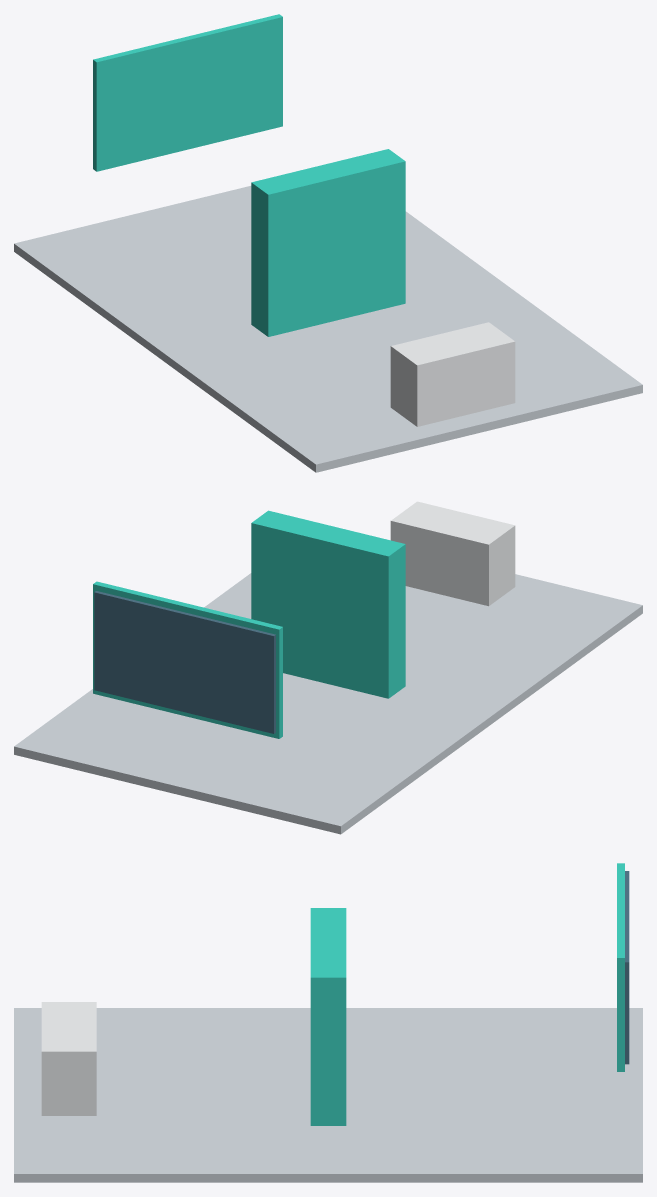
The picture shows the model from 3 angles, top to bottom: view 1: azimuth 30°, elevation 25°; view 2: azimuth 150°, elevation 25°; view 3: azimuth 270°, elevation 25°; orthographic projection. The views are drawn at different scales.
Parts seen in each view (by area): view 1: Exhibition Booth Concept; view 2: Exhibition Booth Concept; view 3: Exhibition Booth Concept.
Boxes of the visible parts, x1=… form: Exhibition Booth Concept: x1=14, y1=14, x2=642, y2=472; Exhibition Booth Concept: x1=14, y1=501, x2=642, y2=834; Exhibition Booth Concept: x1=14, y1=863, x2=642, y2=1182.
Size of the model in its own units: 5 by 2.65 by 8.
